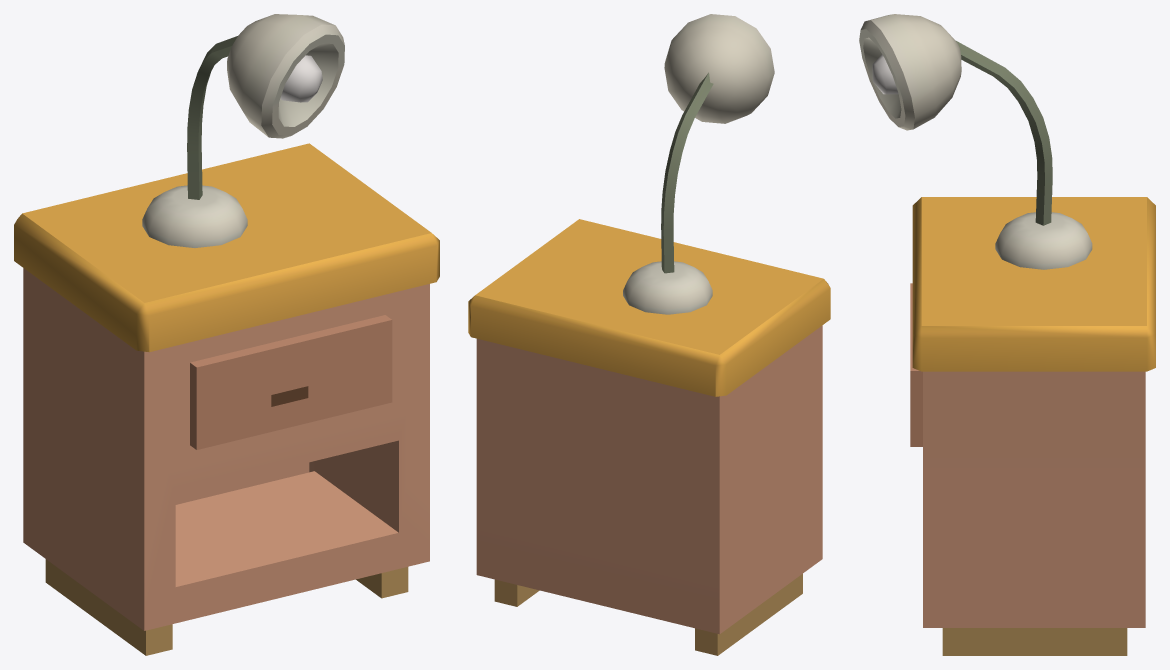
Rendered from bedroom_bedsidetable.fbx.
3 views of the same model, side by side, from view 1: azimuth 30°, elevation 25°; view 2: azimuth 150°, elevation 25°; view 3: azimuth 270°, elevation 25° (orthographic). The views are drawn at different scales.
Parts seen in each view (by area): view 1: polySurface19; view 2: polySurface19; view 3: polySurface19.
Part boxes in pixels (bbox=[...]): polySurface19: bbox=[14, 14, 439, 655]; polySurface19: bbox=[468, 14, 830, 655]; polySurface19: bbox=[859, 14, 1155, 655].
Size of the model in its own units: 0.6995 by 1.38 by 0.6437.
